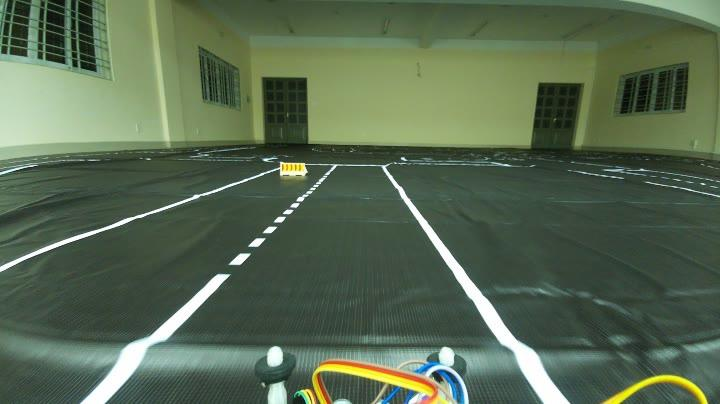roadblock: (276, 157, 308, 178)
